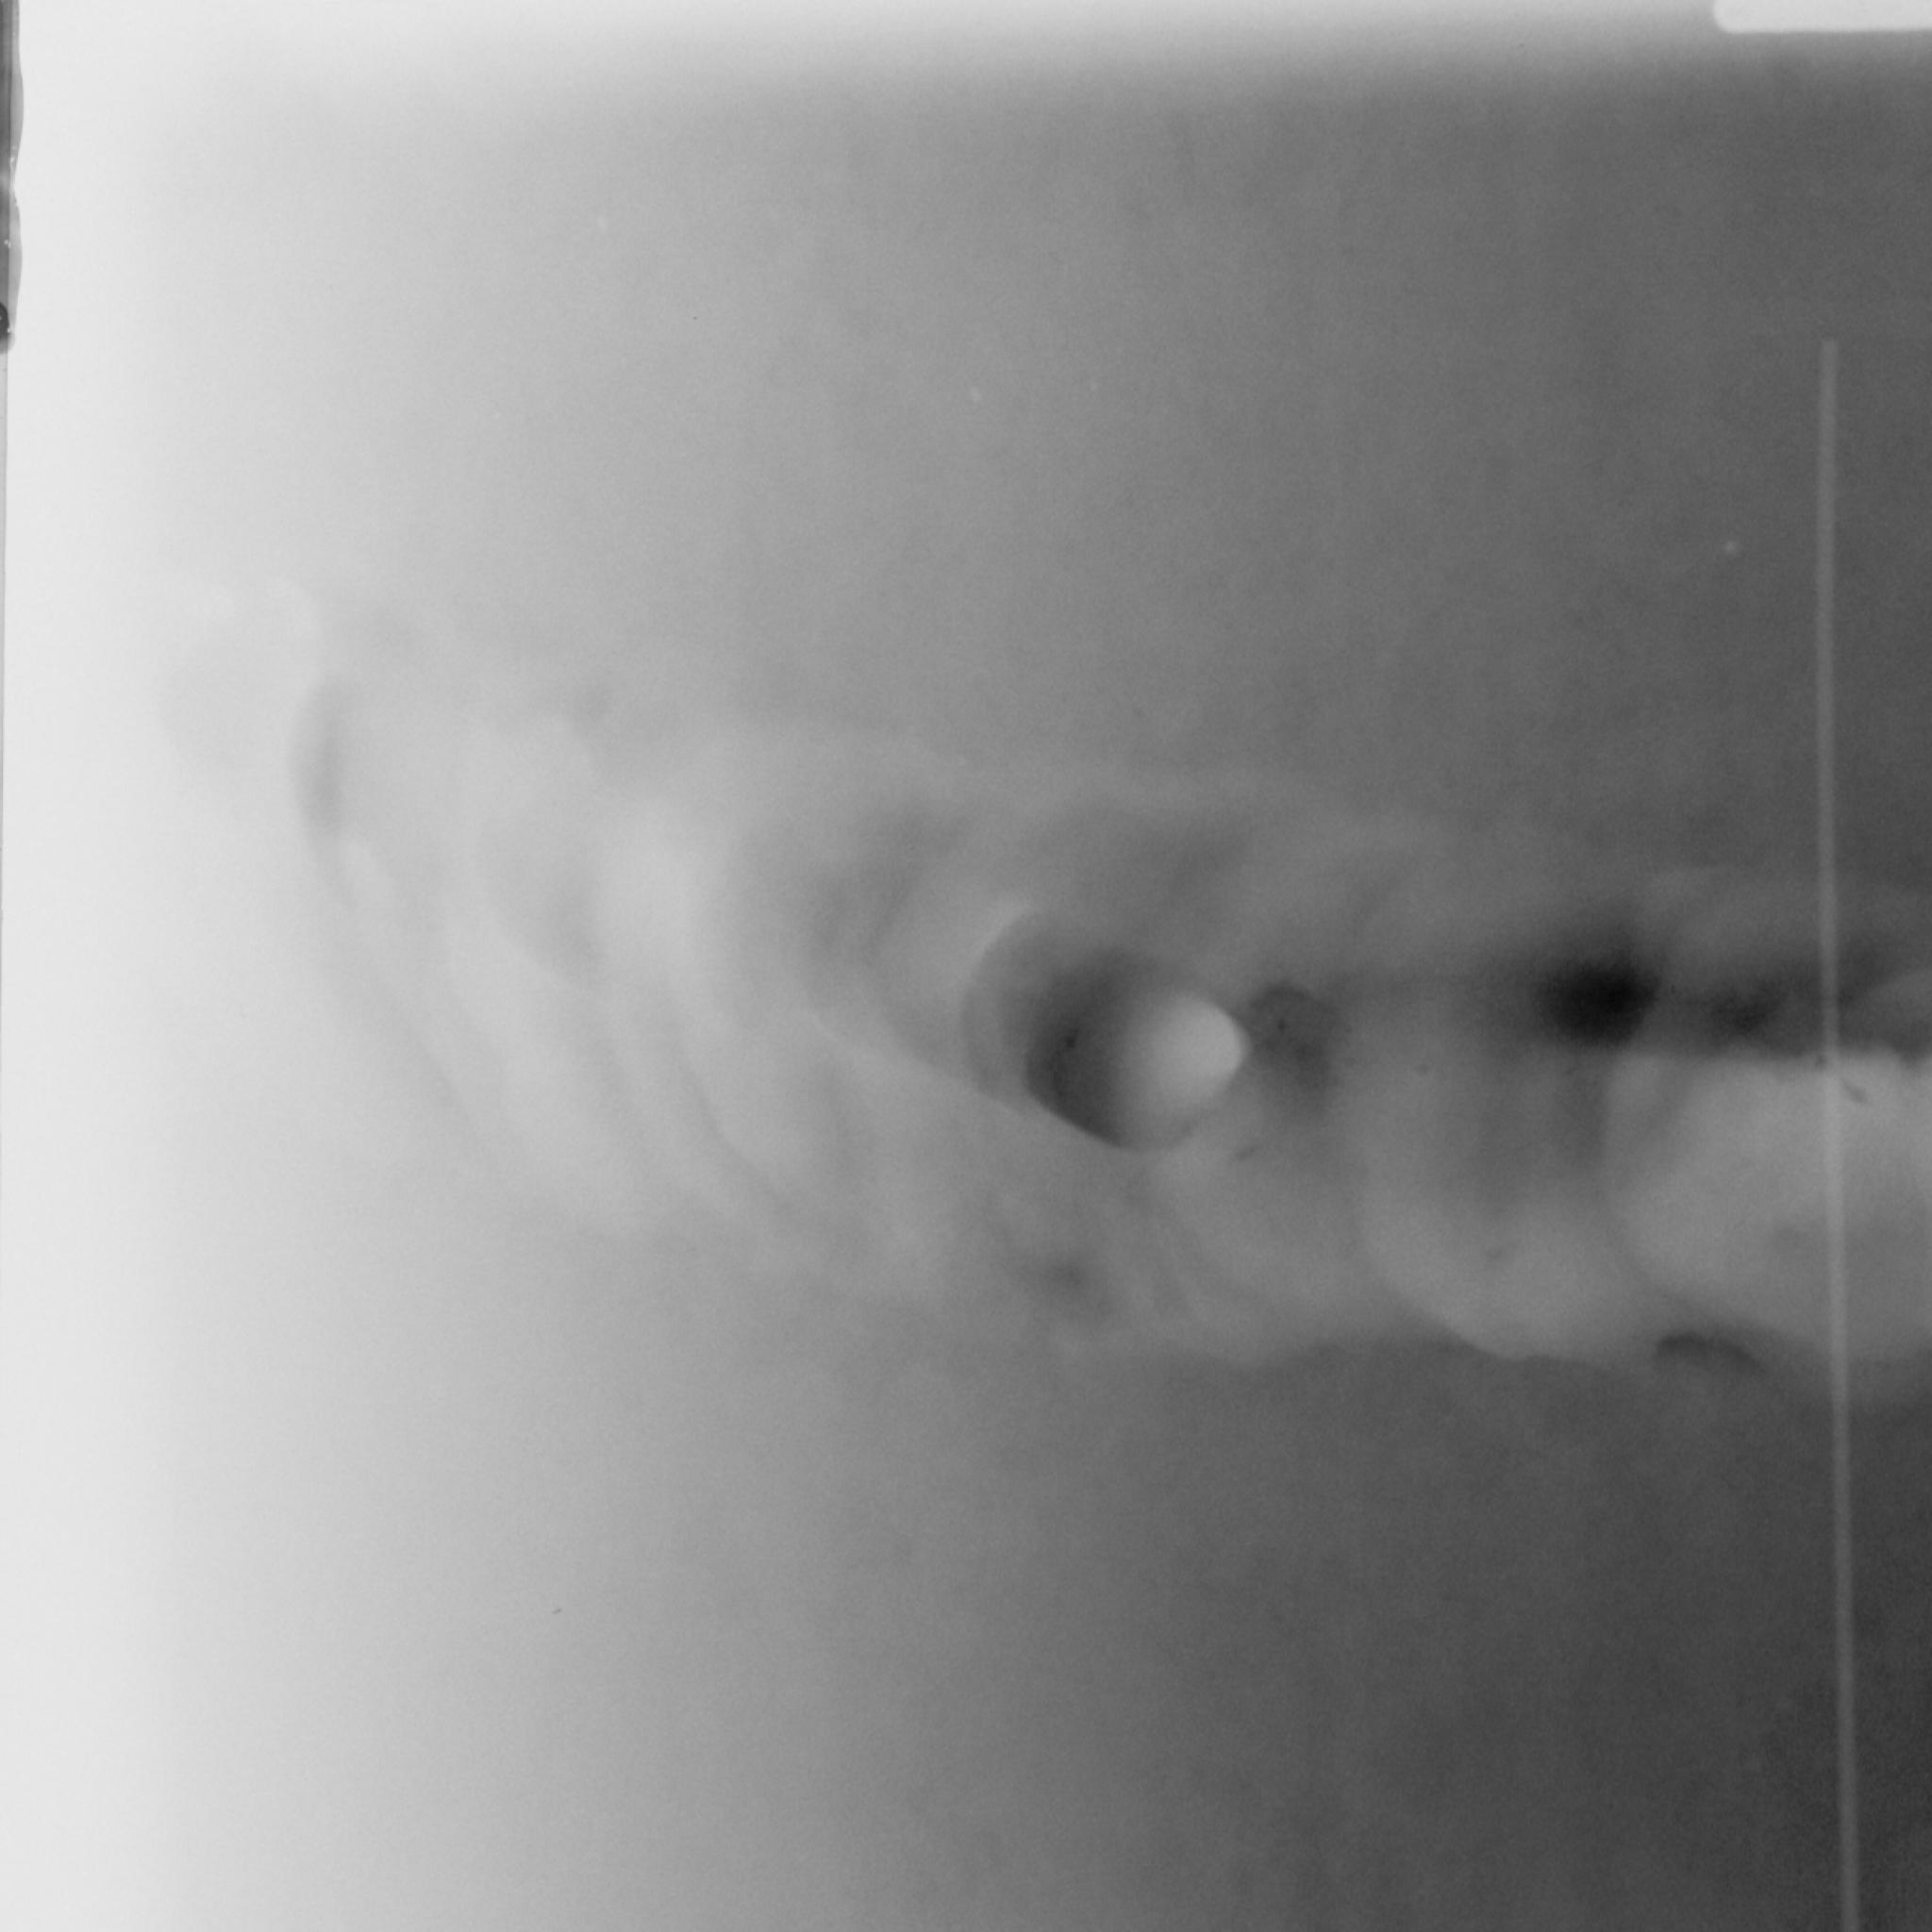PO: (1053, 1024, 1090, 1058), (1407, 1049, 1438, 1088), (1267, 1008, 1299, 1042)
Solda Ruim: (543, 678, 1932, 1506)
